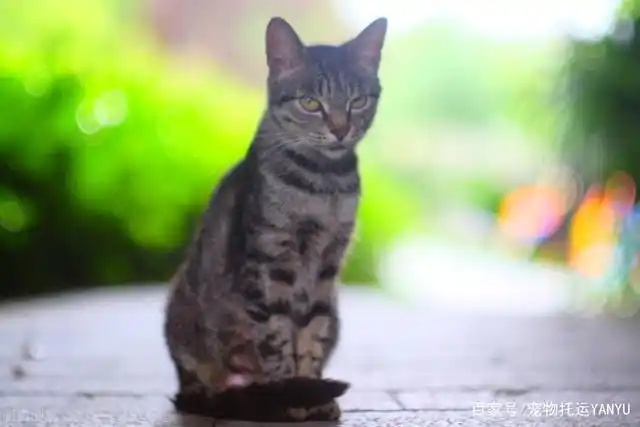狸花猫: (166, 18, 385, 413)
